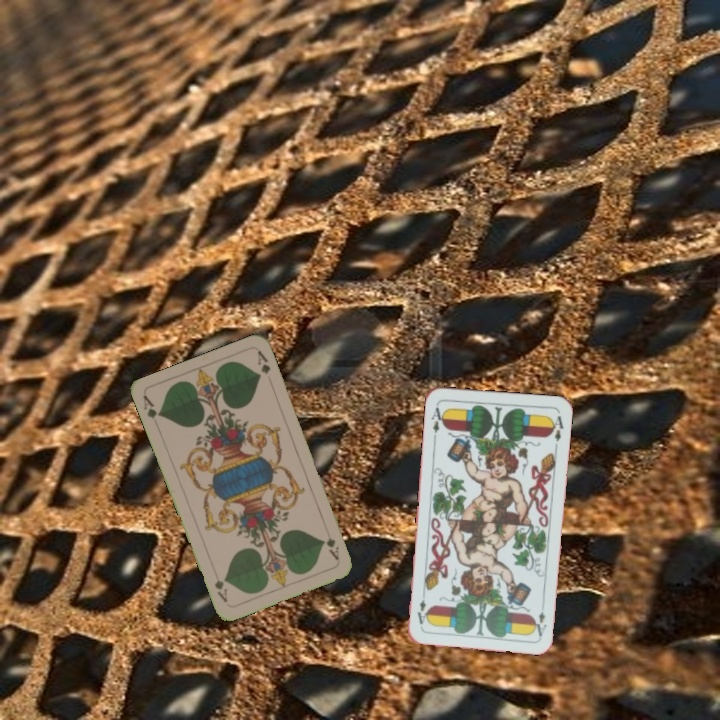EA: (427, 403, 447, 441), (531, 598, 549, 639)
GA: (321, 524, 342, 563), (139, 392, 164, 421)
